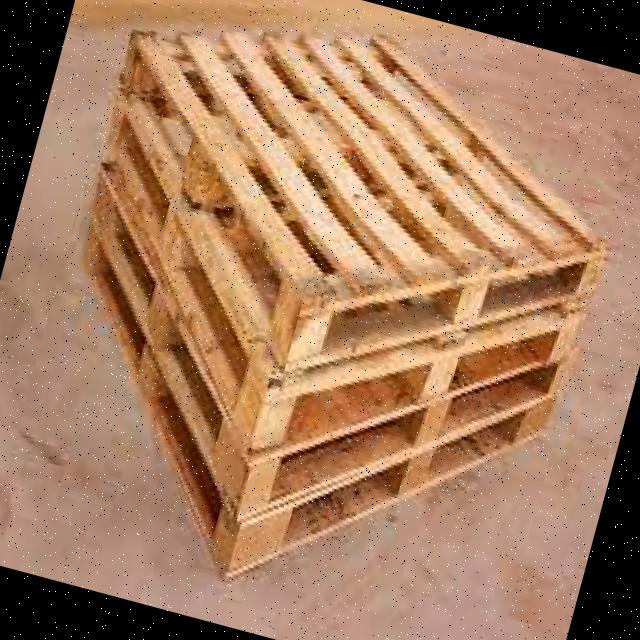Wooden-Pallets: (78, 157, 577, 523), (113, 24, 623, 370)
